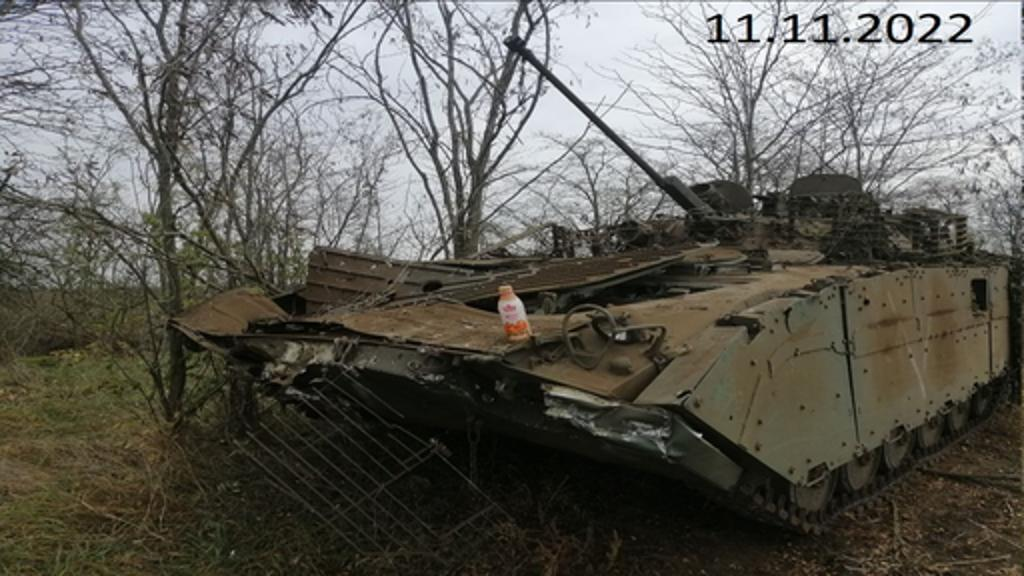APC-IFV: (214, 26, 1022, 534)
